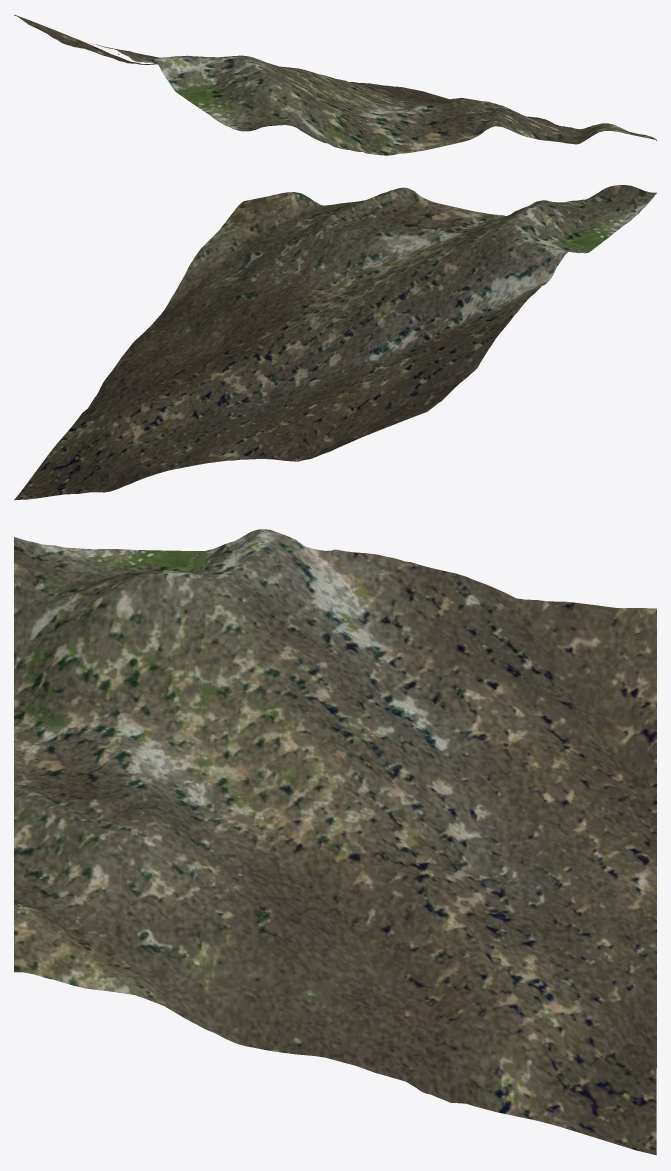
The picture shows the model from 3 angles, top to bottom: view 1: azimuth 30°, elevation 25°; view 2: azimuth 150°, elevation 25°; view 3: azimuth 270°, elevation 25°; orthographic projection. The views are drawn at different scales.
Bounding box in the file's own units: 500 × 288 × 481.
1 material, 1 textured.
